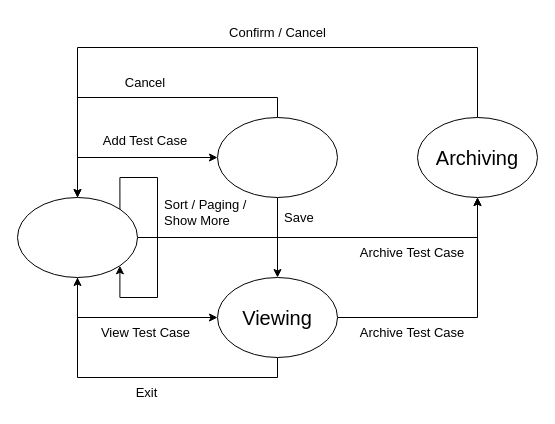
Image size: 555x424. Some labels were removed from this diagram. The shapes that lost their labels are listed below. From the top down, each one's box as (x1, y1, x2, y2) in pixels, then its label:
(216, 116, 338, 198): Creating
(16, 196, 138, 278): Idle
